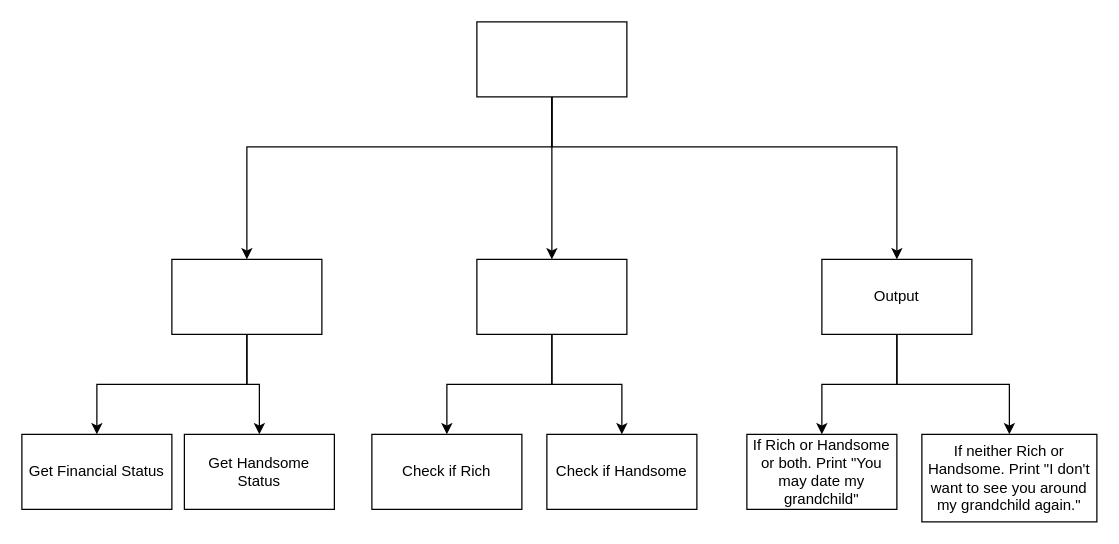
This 1119x544 diagram has some shape labels left out. The shapes that lost their labels are listed below. From the top down, each one's centre as x and y in pixels, then its label:
At [551,59]: "Dating confirmation from grandma".
At [246,296]: "Input".
At [551,296]: "Process".
